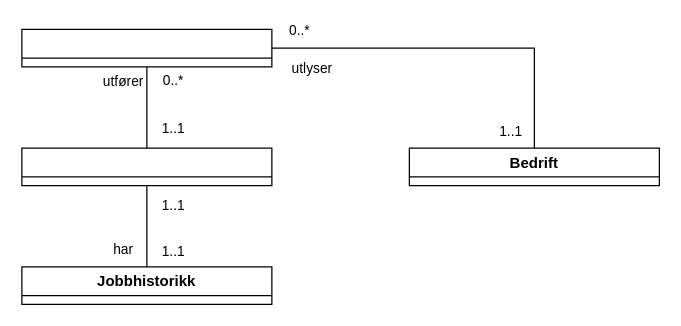
The diagram is 681 pixels wide and 326 high, and some of its shapes have lost their labels. Each missing label, with the centre of its shape:
"Oppdrag" belongs at pixel 146 47.
"Vikarkandidat" belongs at pixel 146 166.
